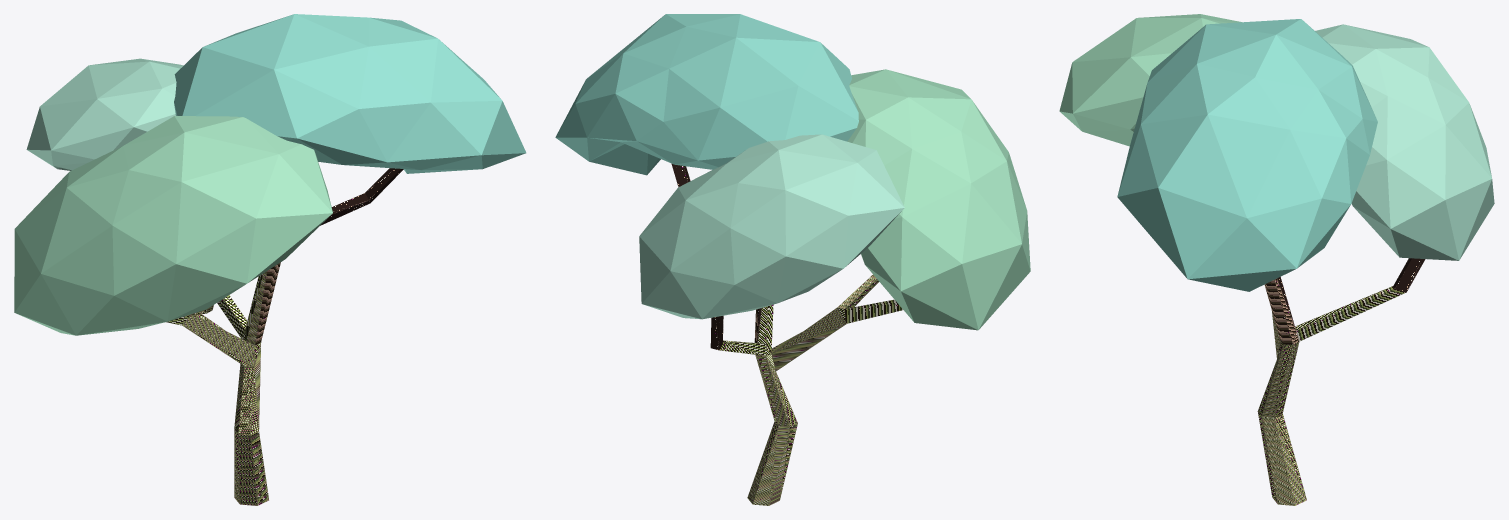
File: LPTree_Tree_Type3_03_Model_instanced_l2_superhigh.glb
3 views of the same model, side by side, from view 1: azimuth 30°, elevation 25°; view 2: azimuth 150°, elevation 25°; view 3: azimuth 270°, elevation 25° (orthographic). The views are drawn at different scales.
Parts seen in each view (by area): view 1: Tree Type3 03 Model; view 2: Tree Type3 03 Model; view 3: Tree Type3 03 Model.
Part boxes in pixels (bbox=[...]): Tree Type3 03 Model: bbox=[14, 14, 526, 505]; Tree Type3 03 Model: bbox=[555, 14, 1030, 505]; Tree Type3 03 Model: bbox=[1059, 14, 1494, 505].
Size of the model in its own units: 4.44 by 4.37 by 3.57.
4 materials, 1 textured.
